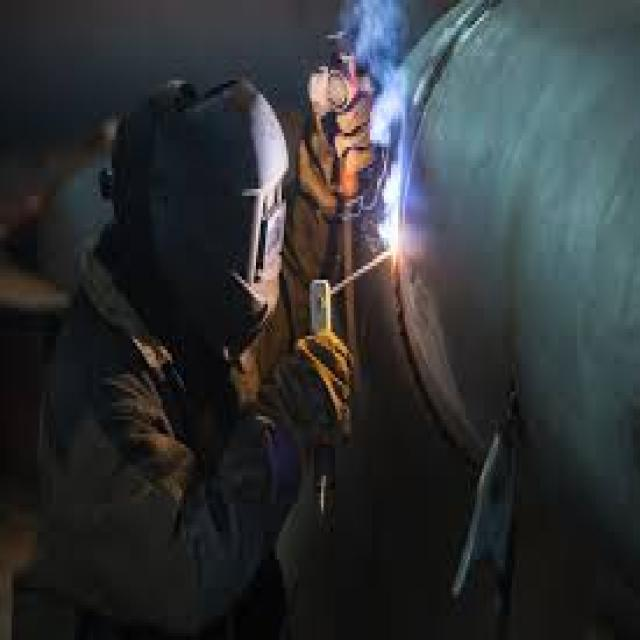welding: (384, 214, 400, 270)
